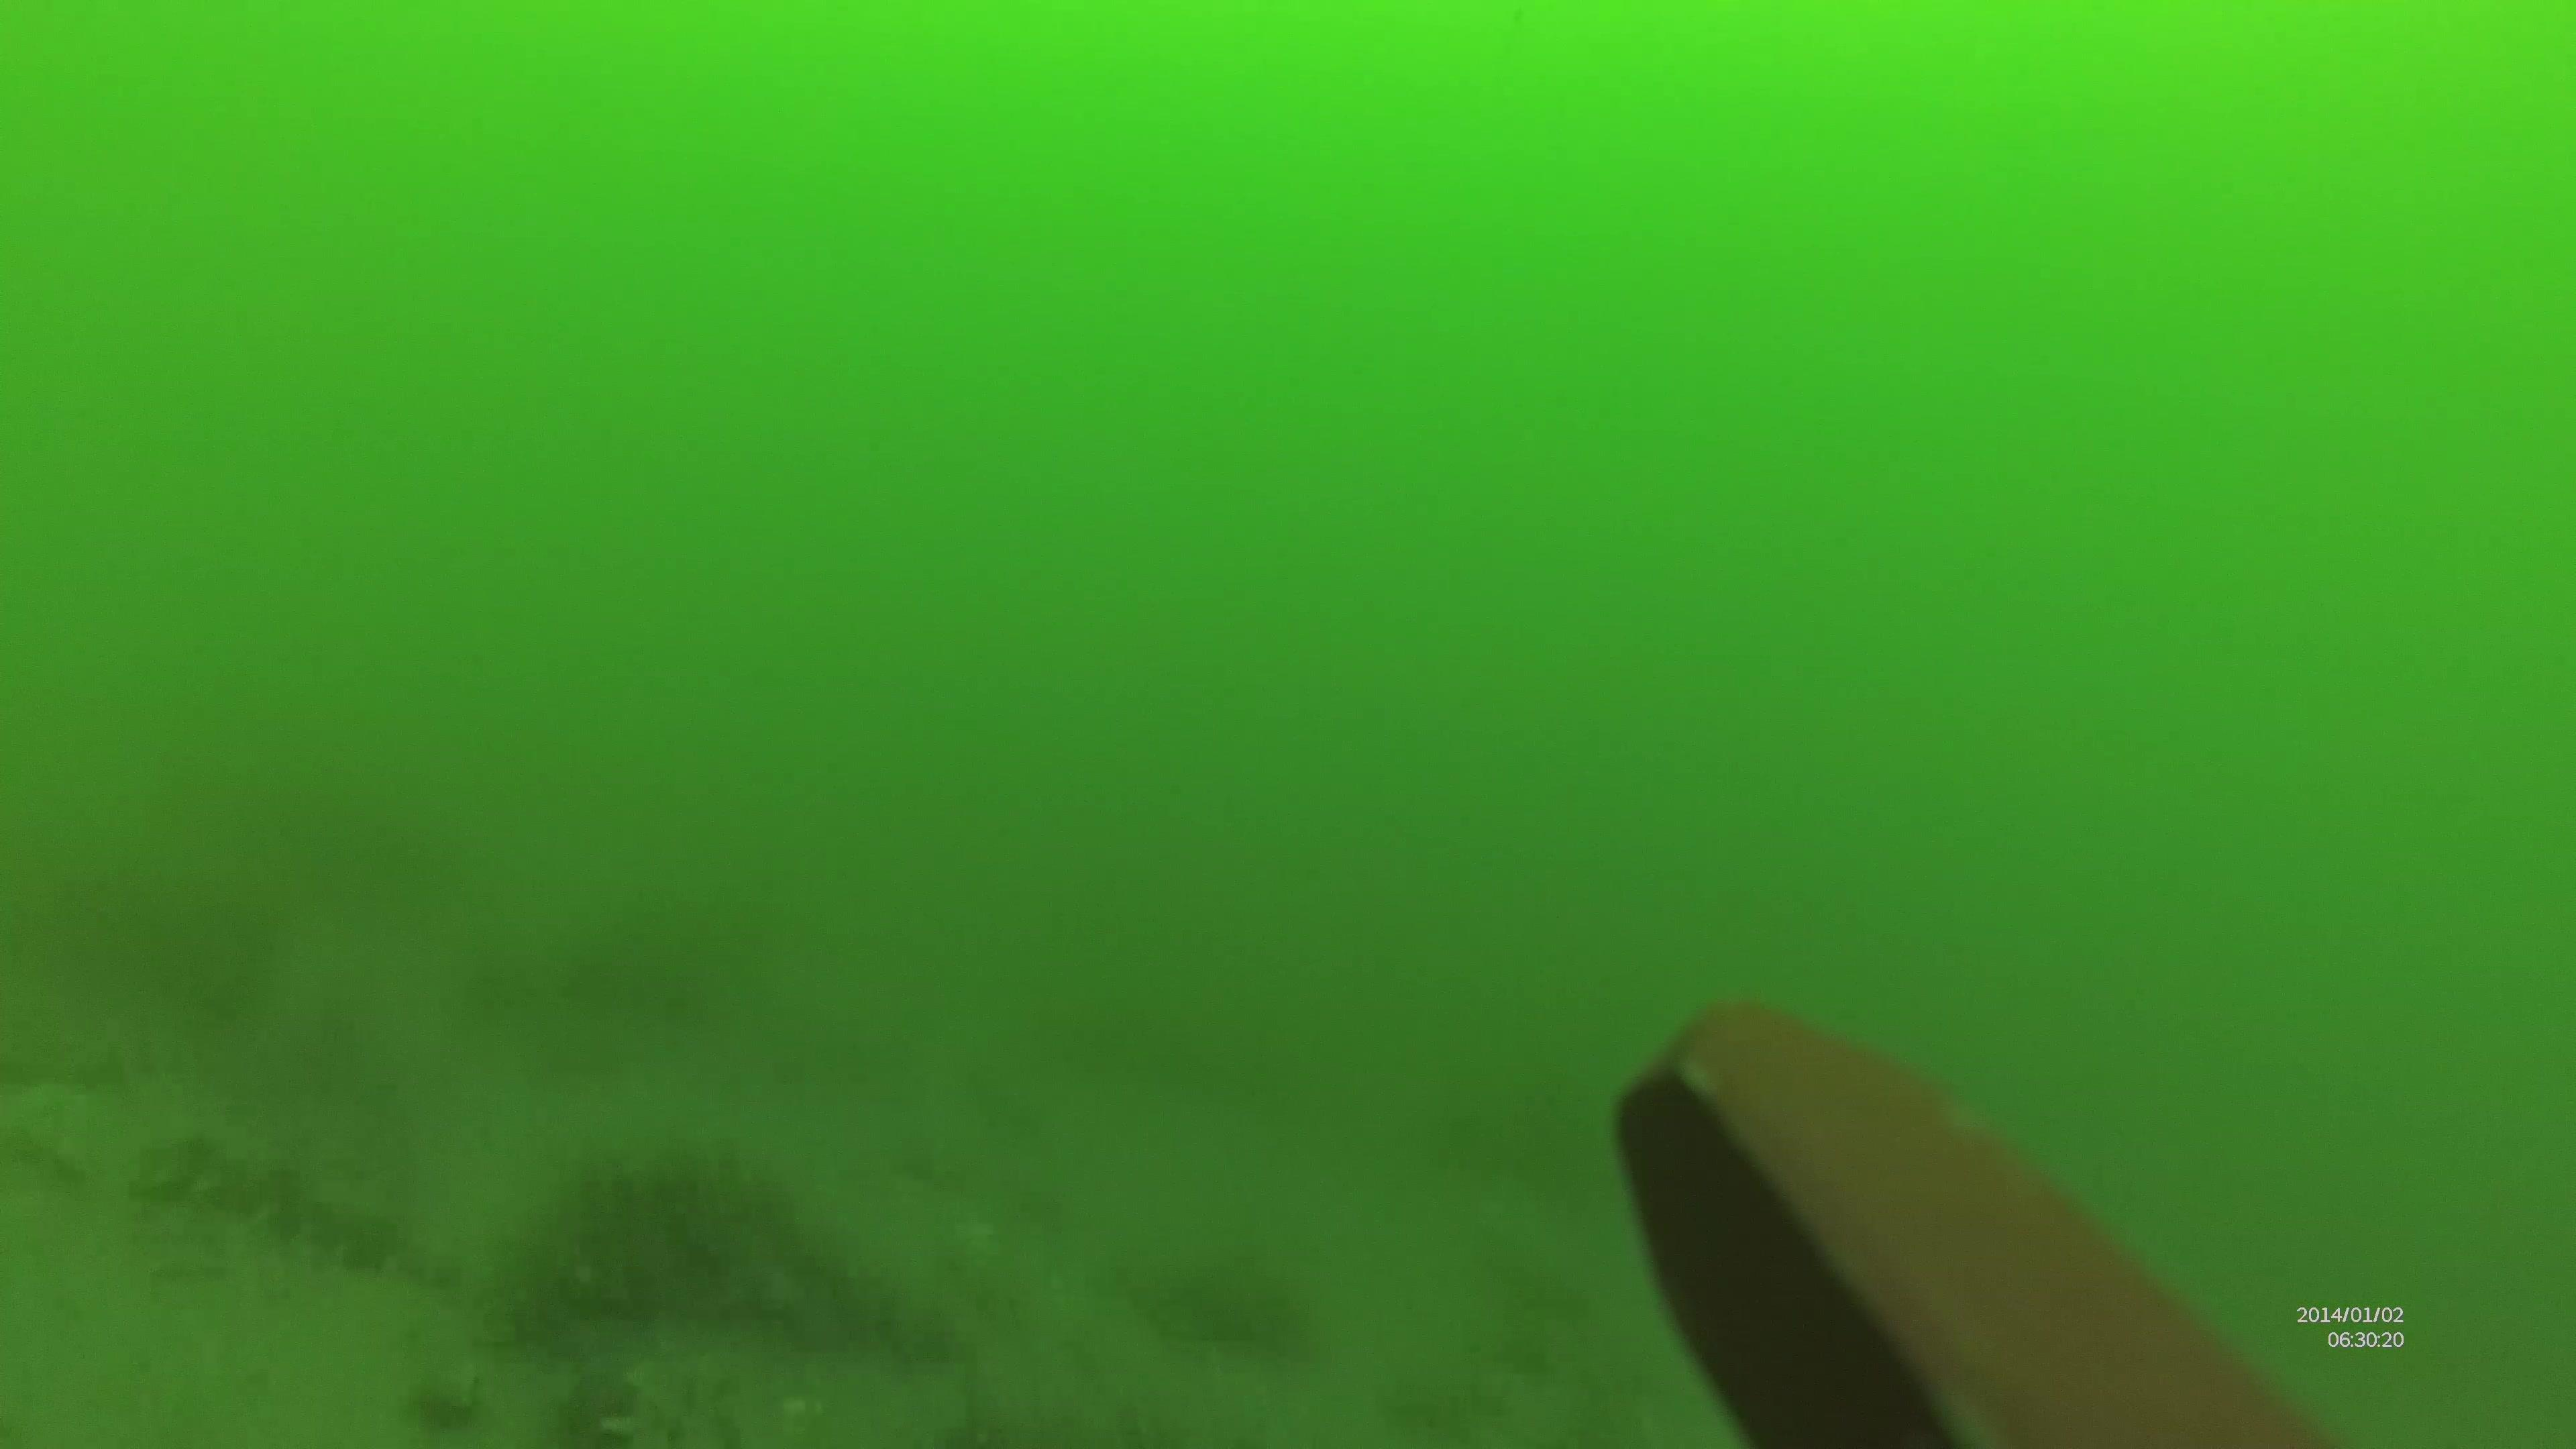holothurian: (122, 1129, 456, 1286), (600, 1355, 748, 1449)
